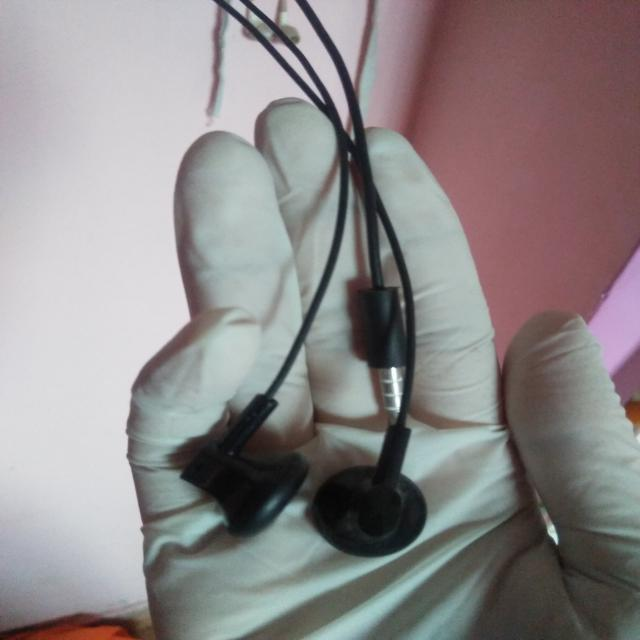glove_hand: (113, 94, 640, 639)
